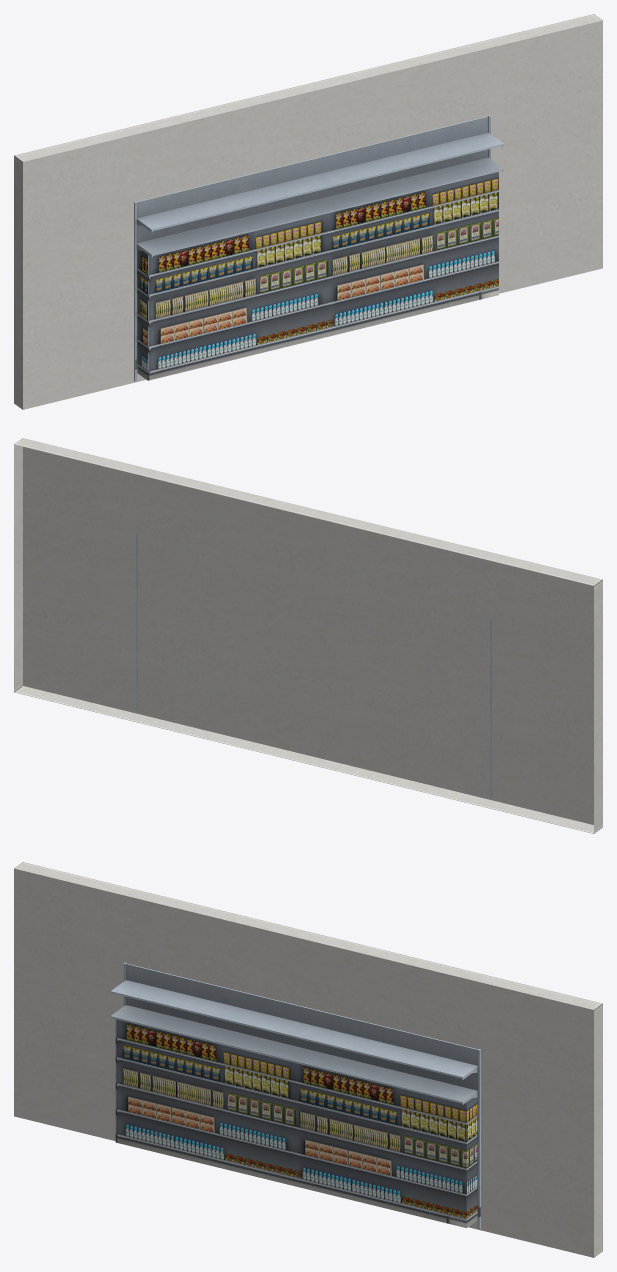
Rendered from chaoshi_source.fbx.
3 renders of one model, top to bottom at view 1: azimuth 30°, elevation 25°; view 2: azimuth 150°, elevation 25°; view 3: azimuth 330°, elevation 25°, orthographic.
Parts seen in each view (by area): view 1: chaoshi_qiang, chaoshi_huijia; view 2: chaoshi_qiang, chaoshi_huijia; view 3: chaoshi_qiang, chaoshi_huijia.
Boxes of the visible parts, <box> form: chaoshi_qiang: <box>14,14,602,409</box>; chaoshi_huijia: <box>134,115,503,381</box>; chaoshi_qiang: <box>14,438,602,833</box>; chaoshi_huijia: <box>136,532,491,798</box>; chaoshi_qiang: <box>14,862,602,1257</box>; chaoshi_huijia: <box>110,962,480,1229</box>.
Bounding box in the file's own units: 747 × 305 × 55.91.
Materials: 3 (3 with a texture image).
